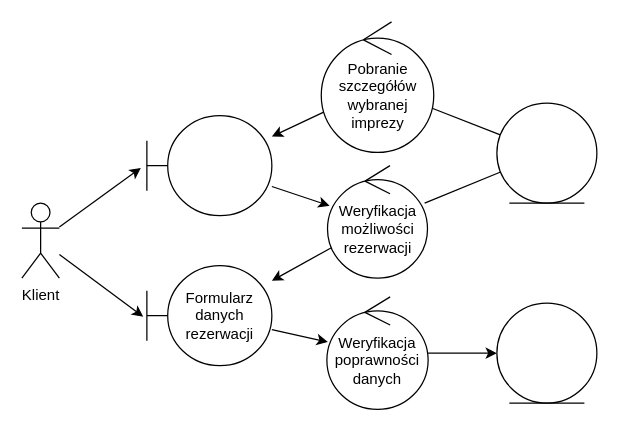
The diagram is 619 pixels wide and 431 high, and some of its shapes have lost their labels. The shapes that lost their labels are listed below. From the top down, each one's centre as x and y in pixels, then its label:
At pixel 209 165: "Interfejs szczegółów wybranej imprezy".
At pixel 546 152: "Baza danych".
At pixel 546 352: "Rezerwacja".
